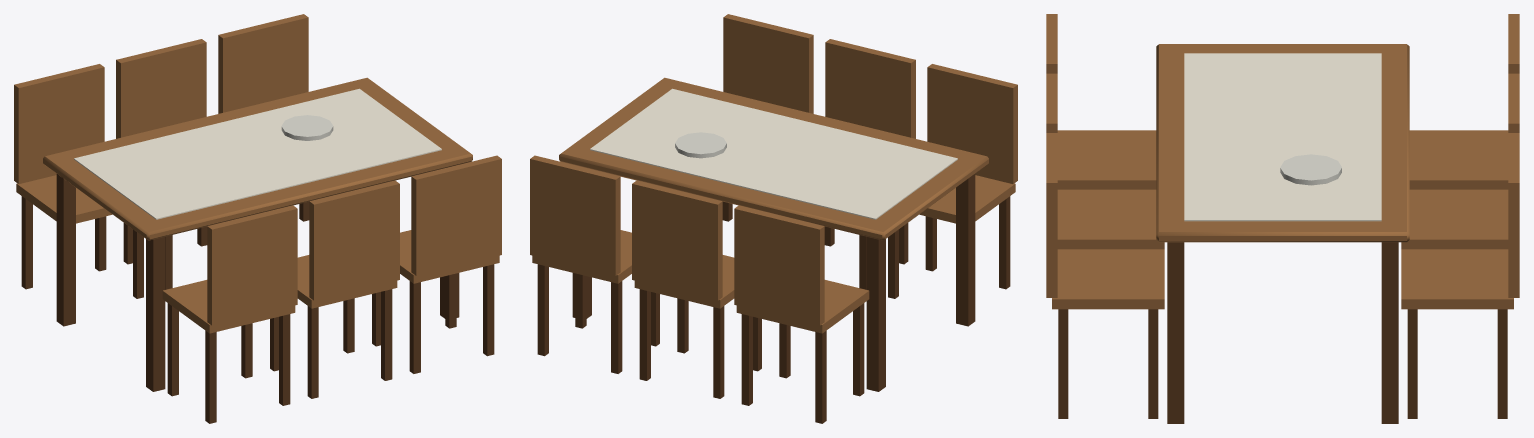
Rendered from family_table.glb.
3 views of the same model, side by side, from view 1: azimuth 30°, elevation 25°; view 2: azimuth 150°, elevation 25°; view 3: azimuth 270°, elevation 25° (orthographic). The views are drawn at different scales.
Parts seen in each view (by area): view 1: FamilyTable; view 2: FamilyTable; view 3: FamilyTable.
Part boxes in pixels (x1,y1,x2,y2): FamilyTable: (14,14,501,423); FamilyTable: (530,14,1017,423); FamilyTable: (1046,14,1519,423).
Bounding box in the file's own units: 1.6 × 0.93 × 1.68.
